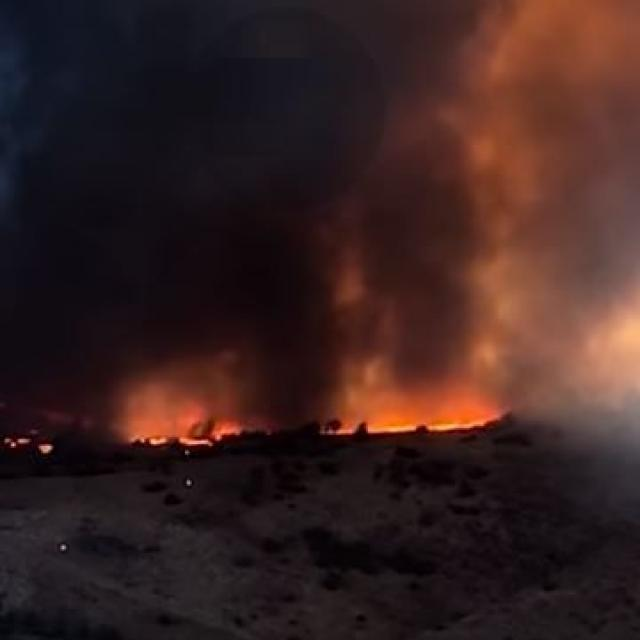Fire: (330, 407, 510, 449), (128, 423, 229, 454)
Smoke: (0, 0, 635, 421)
